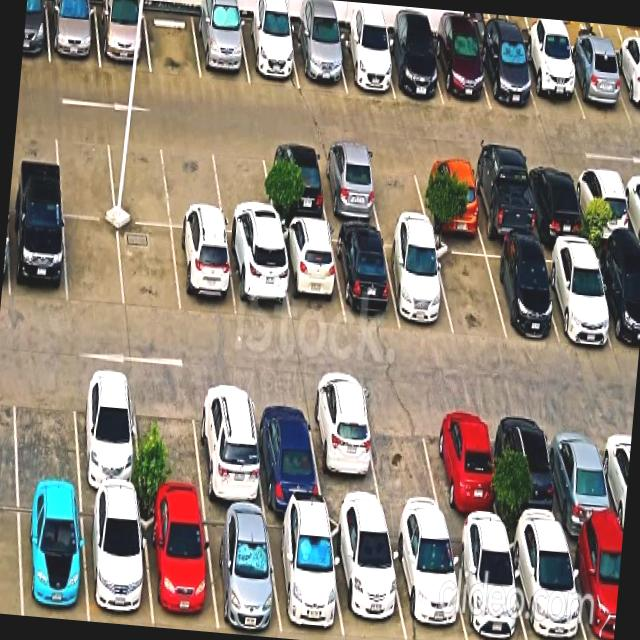car: (202, 507, 281, 635), (265, 512, 343, 640), (140, 501, 217, 629), (328, 517, 406, 640), (427, 404, 502, 530), (81, 494, 152, 624), (387, 525, 466, 640), (447, 526, 526, 640), (546, 413, 619, 536), (18, 491, 87, 621), (193, 384, 264, 510), (251, 390, 323, 512), (506, 530, 585, 640), (73, 371, 140, 498), (496, 409, 564, 533), (539, 242, 614, 345), (381, 233, 453, 334), (483, 242, 558, 338), (330, 228, 399, 326), (278, 224, 344, 325), (564, 534, 622, 640), (171, 228, 236, 317), (225, 234, 290, 322), (9, 206, 66, 303), (468, 159, 536, 240), (591, 245, 640, 354), (262, 144, 328, 223), (417, 155, 482, 234), (563, 48, 631, 123), (316, 147, 380, 225), (519, 45, 584, 119), (524, 162, 586, 239), (572, 165, 633, 242), (477, 38, 538, 115), (431, 35, 490, 109), (382, 35, 443, 104), (239, 18, 299, 88), (334, 30, 394, 98), (192, 13, 249, 84), (94, 4, 150, 72), (290, 26, 346, 91), (46, 0, 100, 67), (610, 54, 640, 124)
free: (364, 402, 445, 525), (308, 397, 384, 520), (133, 378, 204, 504), (13, 368, 79, 490), (433, 239, 506, 339), (211, 139, 275, 236), (107, 130, 170, 226), (162, 135, 223, 230), (118, 222, 180, 315), (55, 124, 115, 218), (63, 216, 124, 307), (364, 151, 429, 227), (144, 8, 201, 79)
